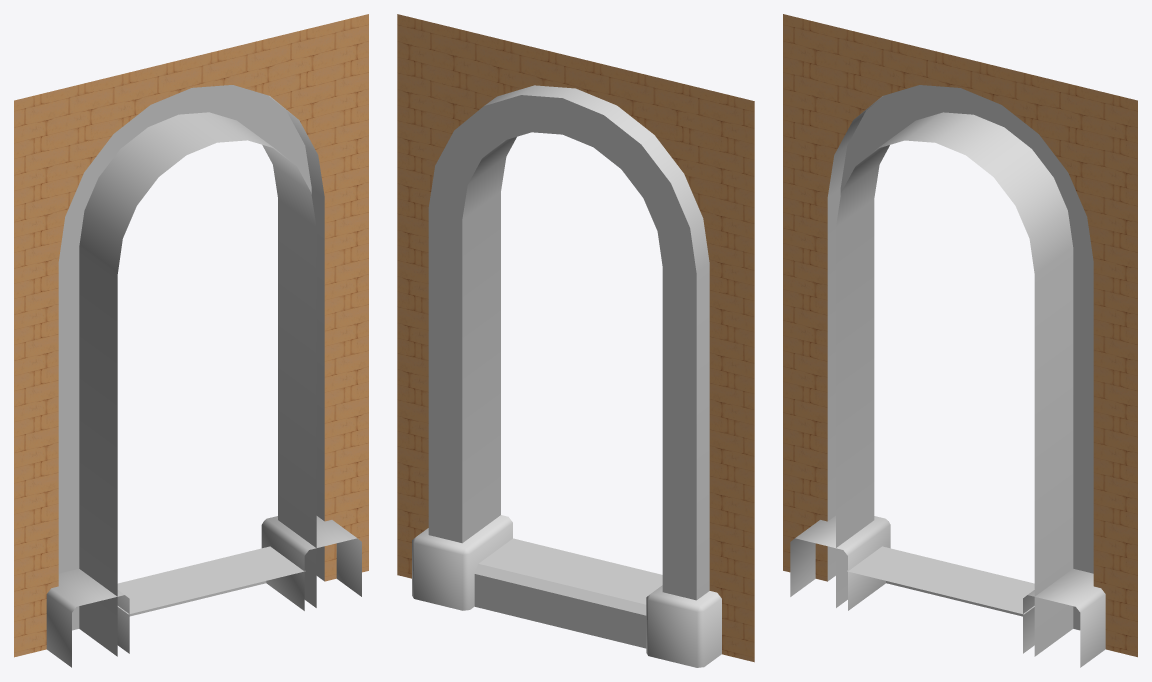
Rendered from Arc_Wall_4x6.fbx.
The picture shows the model from 3 angles, left to right: view 1: azimuth 30°, elevation 25°; view 2: azimuth 150°, elevation 25°; view 3: azimuth 330°, elevation 25°; orthographic projection.
Visible parts, largest first — view 1: Arc_Wall_4x6; view 2: Arc_Wall_4x6; view 3: Arc_Wall_4x6.
Boxes of the visible parts, bbox=[...] form: Arc_Wall_4x6: bbox=[14, 14, 368, 667]; Arc_Wall_4x6: bbox=[397, 14, 754, 667]; Arc_Wall_4x6: bbox=[783, 14, 1137, 667].
Bounding box in the file's own units: 400 × 600 × 88.67.
